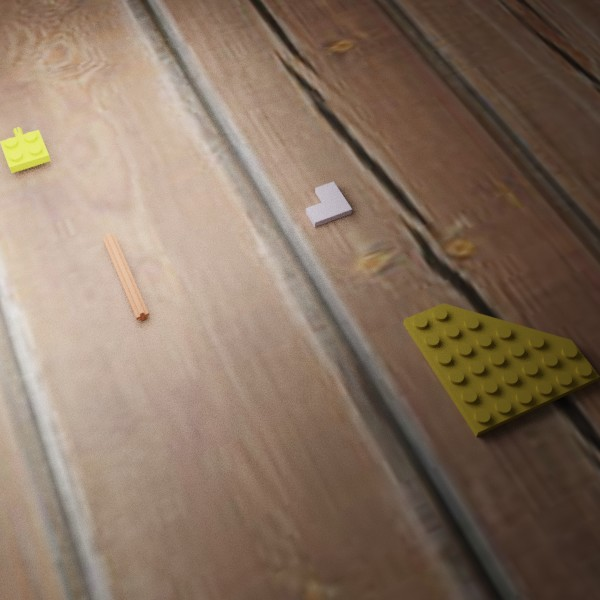lego: (403, 303, 599, 436), (102, 232, 149, 320), (0, 127, 50, 173), (305, 181, 352, 227)
